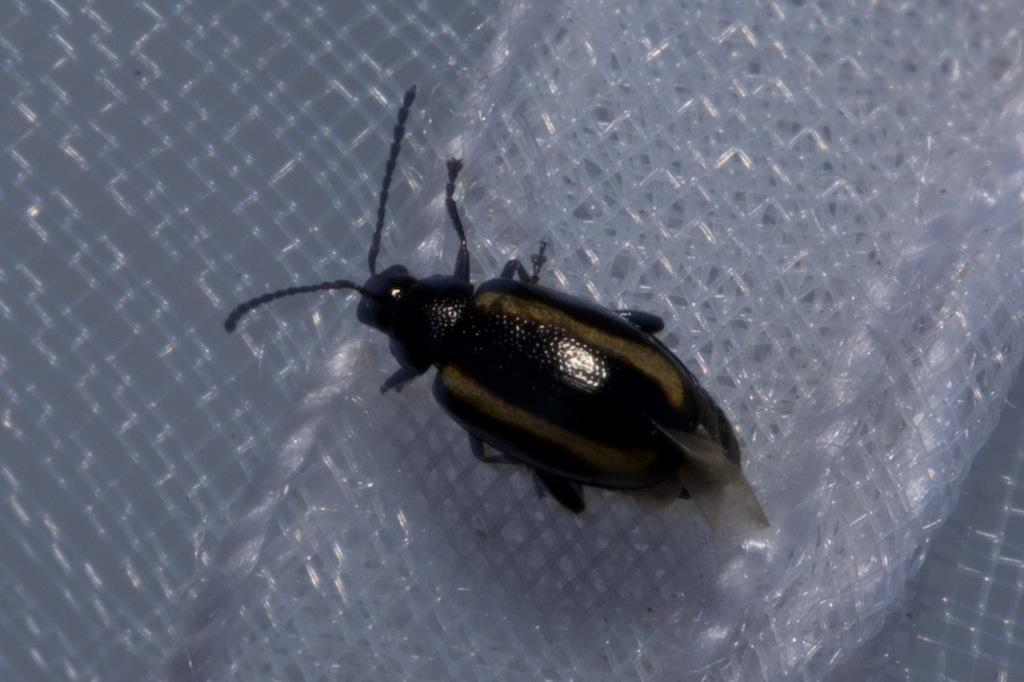flea_beetle: (167, 49, 819, 599)
